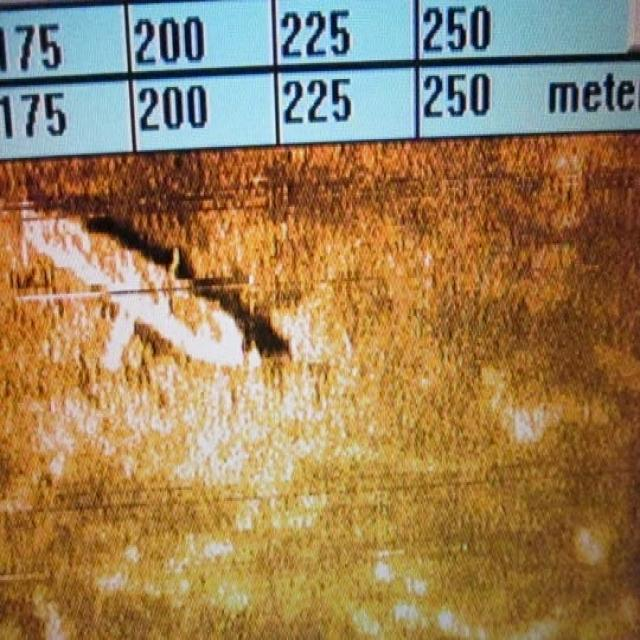ship: (17, 196, 263, 384)
